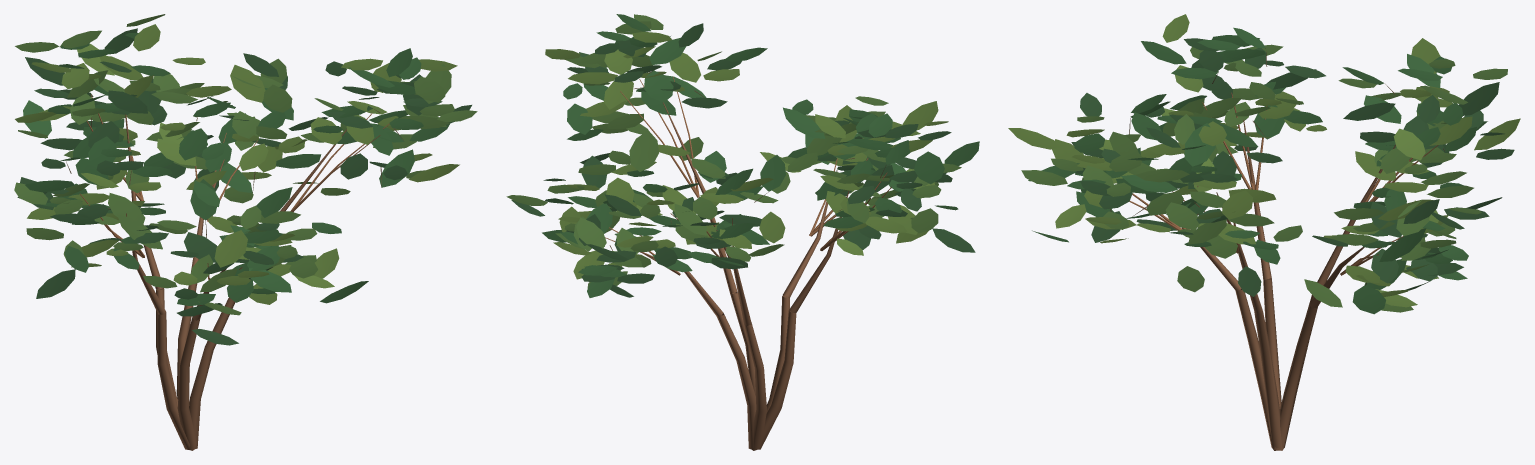
Rendered from ArbousierBuisson_1_Low.fbx.
3 renders of one model, left to right at view 1: azimuth 30°, elevation 25°; view 2: azimuth 150°, elevation 25°; view 3: azimuth 270°, elevation 25°, orthographic. The views are drawn at different scales.
Parts seen in each view (by area): view 1: ArbousierBuisson_1_Low; view 2: ArbousierBuisson_1_Low; view 3: ArbousierBuisson_1_Low.
Part boxes in pixels (left/top/right/bottom): ArbousierBuisson_1_Low: left=14, top=14, right=477, bottom=450; ArbousierBuisson_1_Low: left=506, top=14, right=979, bottom=450; ArbousierBuisson_1_Low: left=1008, top=14, right=1520, bottom=450.
Size of the model in its own units: 307 by 258 by 304.
